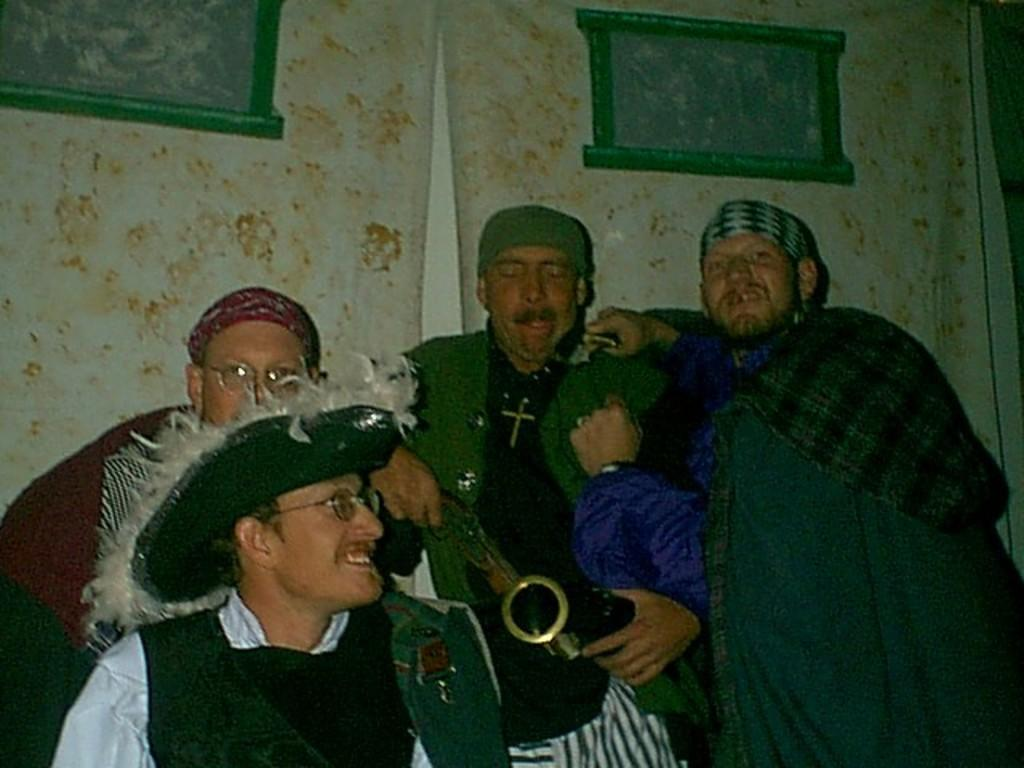Hat: (80, 356, 422, 642)
